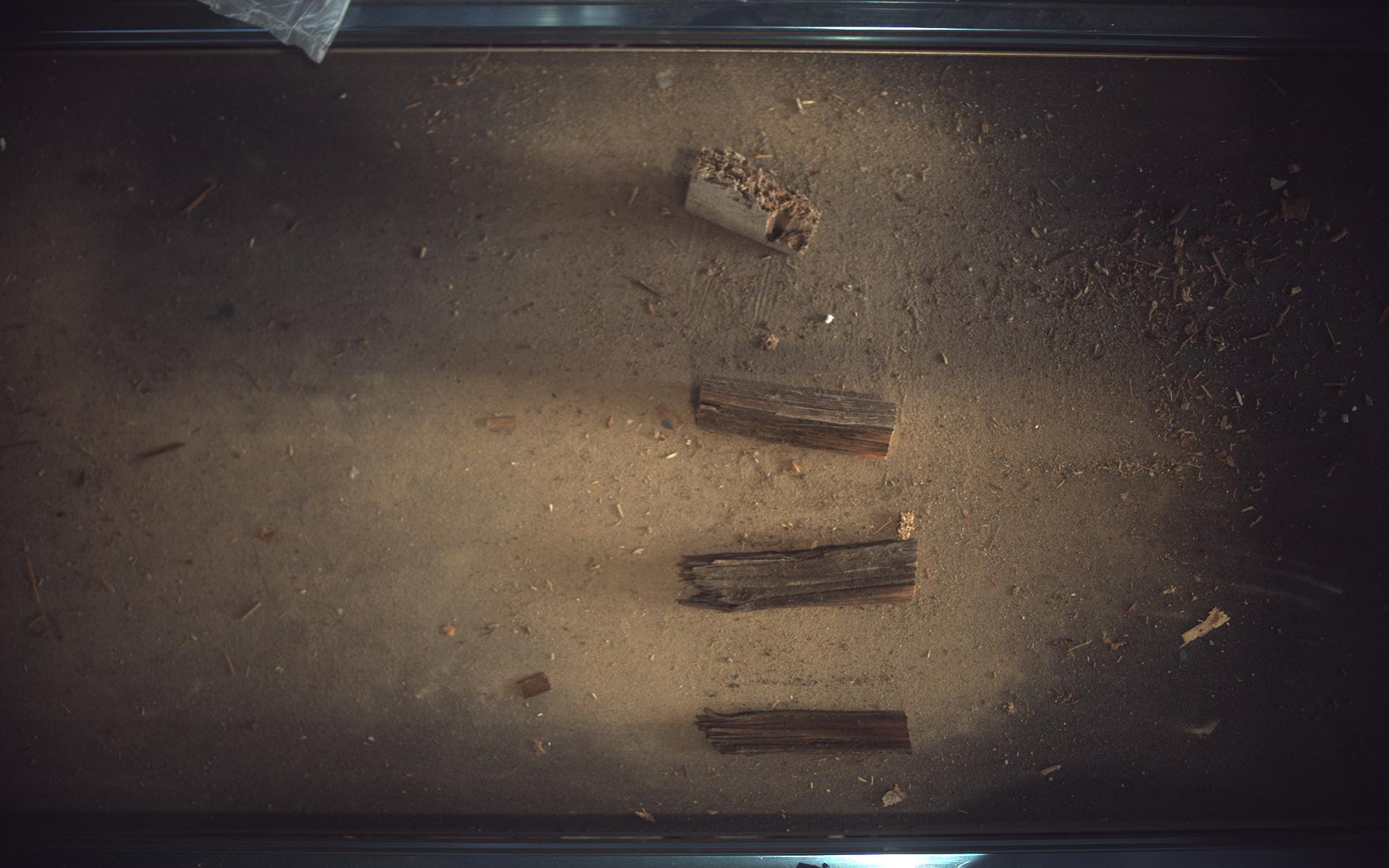wood: (679, 540, 918, 612), (697, 377, 900, 459), (687, 147, 821, 254), (698, 710, 913, 755)
